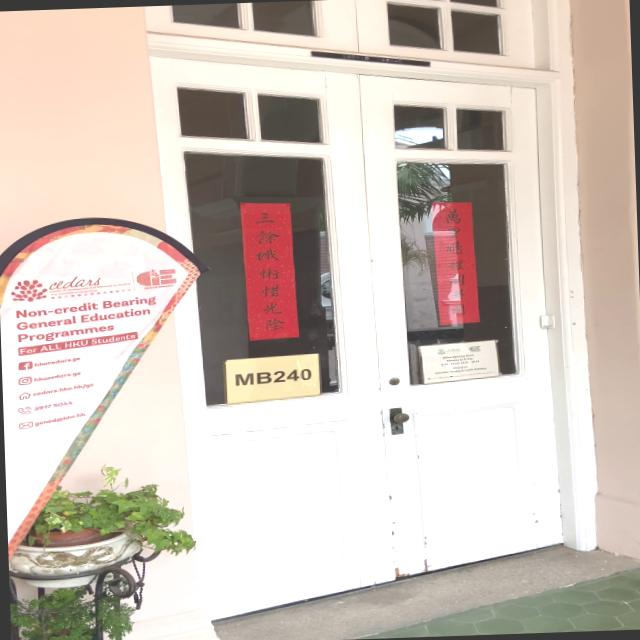room240: (222, 356, 319, 396)
